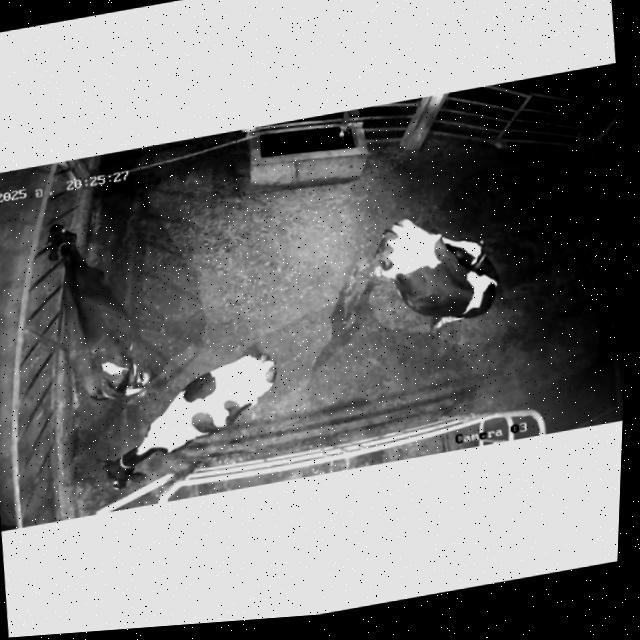stand: (72, 341, 311, 499), (353, 188, 518, 359)
